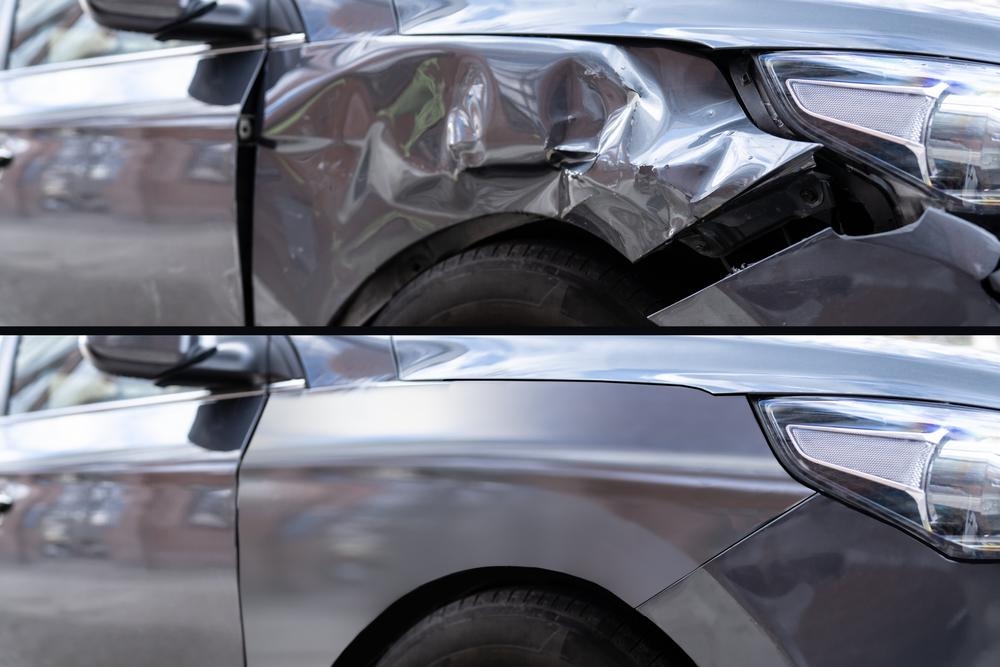dent: (262, 45, 761, 266)
